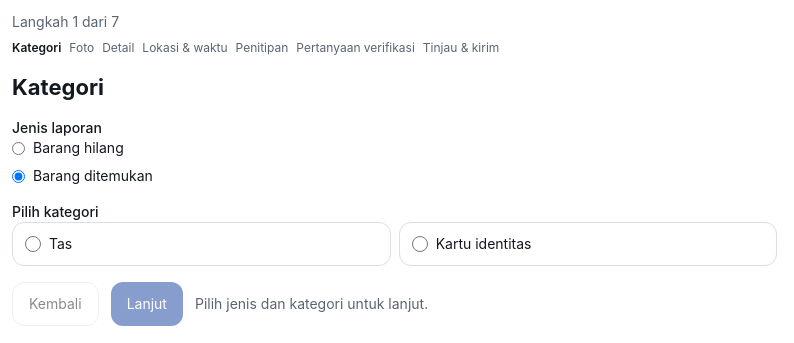
Test: reports/new wizard › starts on step 1 with the URL type selected and blocks next until a category is chosen
Expected: the radio button labelled "Barang ditemukan" is checked, [12, 170, 25, 182]
Expected: the radio button labelled "Barang hilang" is not checked, [12, 142, 25, 154]
Click the radio button labelled "Tas": (33, 244) [25, 236, 41, 252]
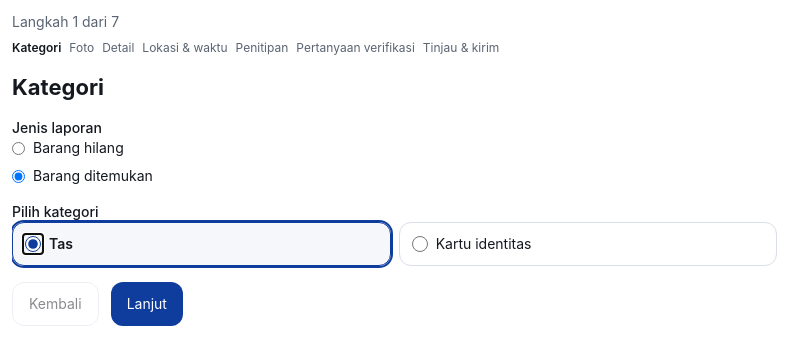
Result: the radio button labelled "Tas" is checked at [25, 236, 41, 252]
Result: the button with test id "wizard-next" is enabled at [111, 282, 183, 326]
